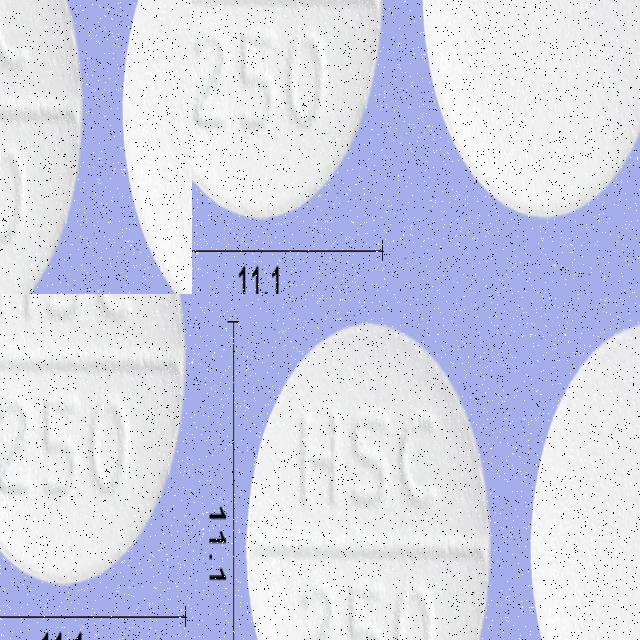Flori: (0, 0, 83, 294), (123, 0, 192, 294)
Levoby - 500mg: (0, 322, 192, 580)
Proxacinby Tab: (245, 319, 490, 640), (531, 321, 640, 640)
Truvada Tab: (192, 0, 537, 294)
